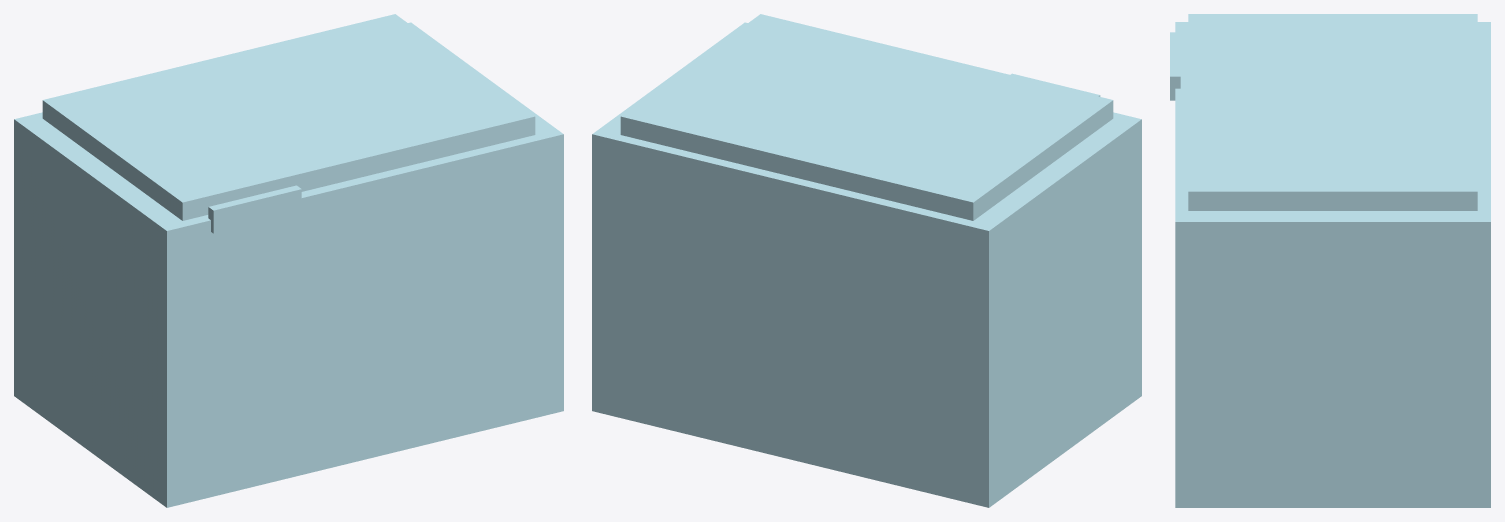
Rendered from shell_posix.gltf.
3 renders of one model, left to right at view 1: azimuth 30°, elevation 25°; view 2: azimuth 150°, elevation 25°; view 3: azimuth 270°, elevation 25°, orthographic. The views are drawn at different scales.
Parts seen in each view (by area): view 1: shell_posix; view 2: shell_posix; view 3: shell_posix.
Part boxes in pixels (x1,y1,x2,y2): shell_posix: (14, 14, 563, 507); shell_posix: (592, 14, 1141, 507); shell_posix: (1170, 14, 1490, 507).
Size of the model in its own units: 0.9 by 0.64 by 0.61.
